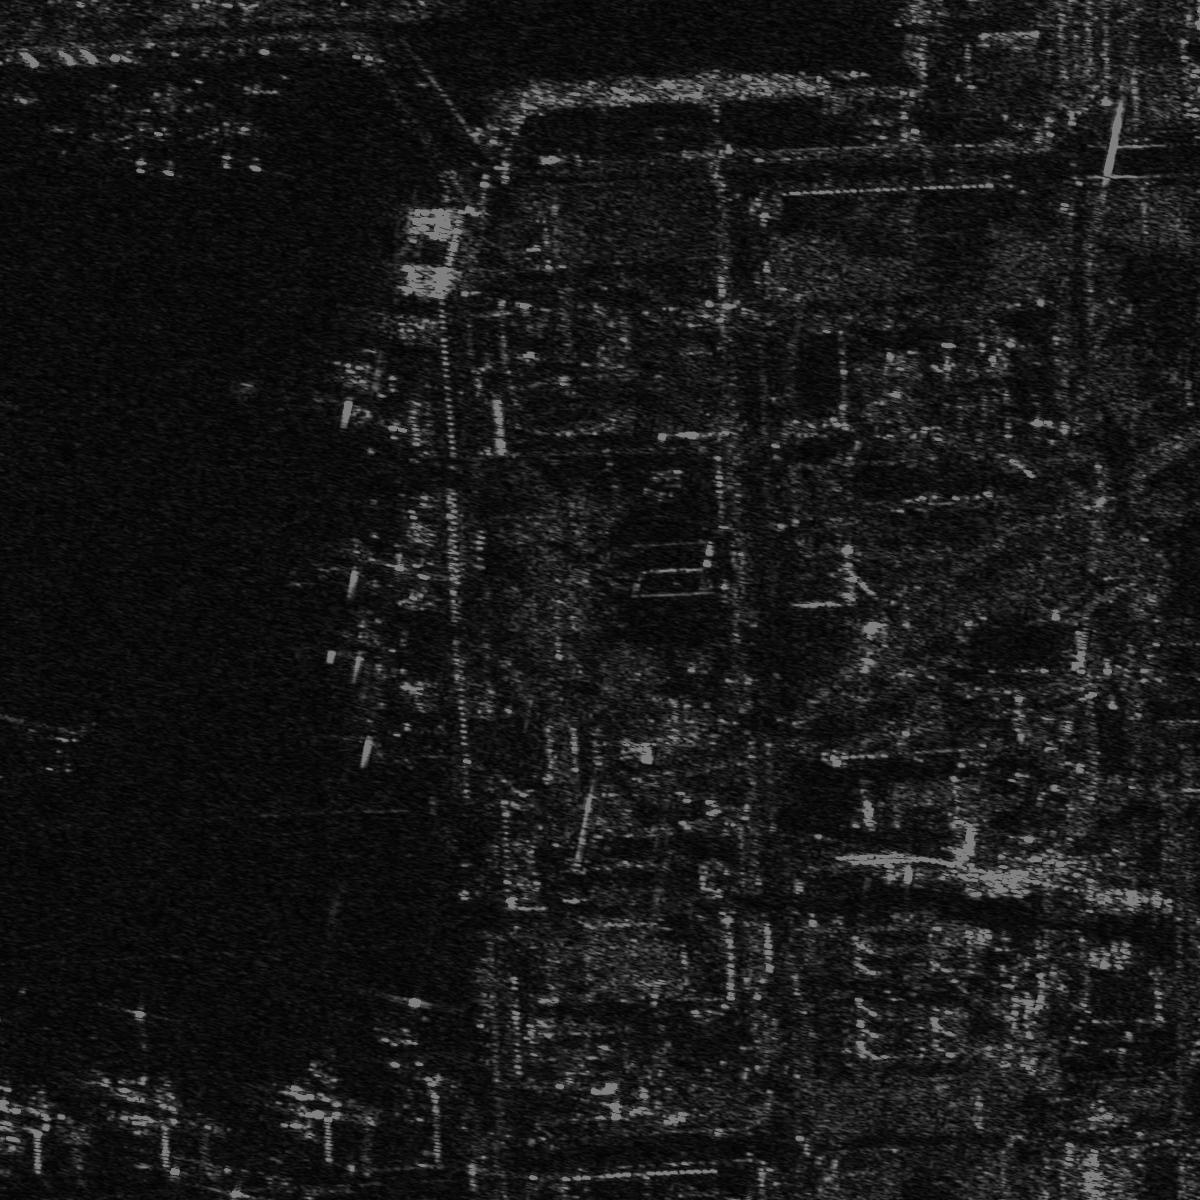A220: (365, 989, 456, 1085), (27, 715, 93, 776)
ARJ21: (109, 92, 175, 179)
Boeing737: (189, 81, 280, 176)
